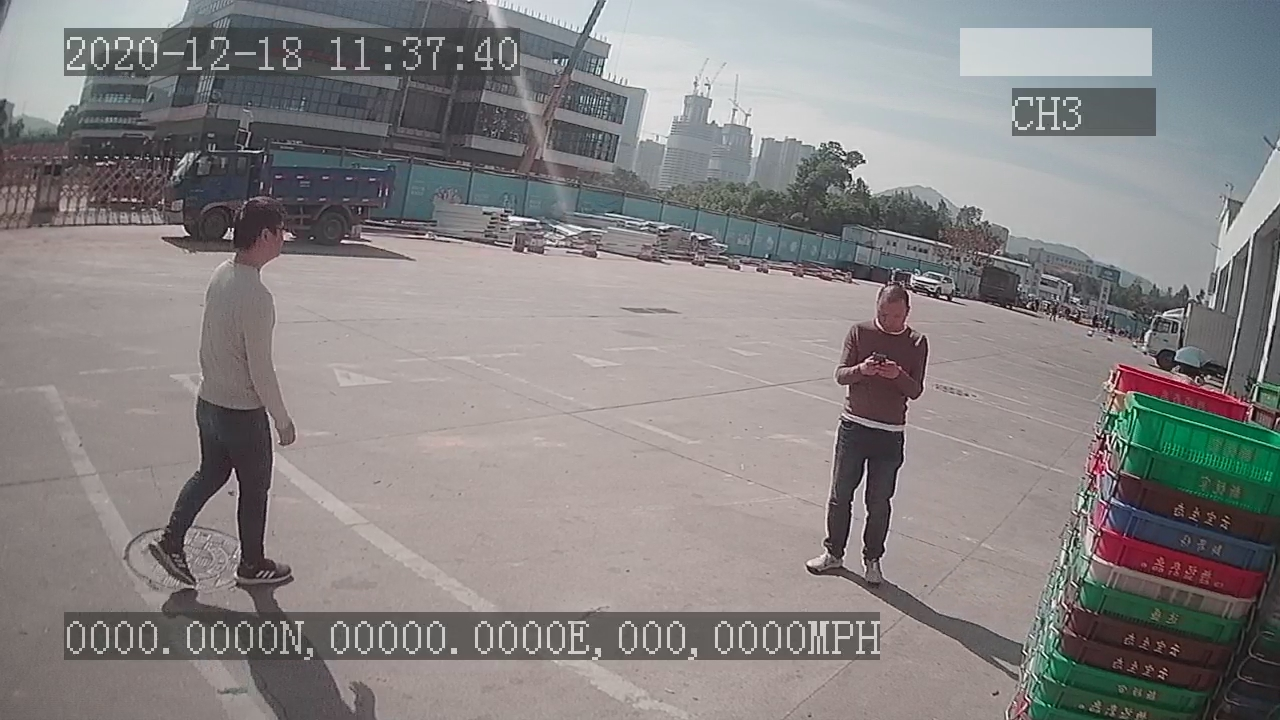person: (803, 284, 931, 586)
